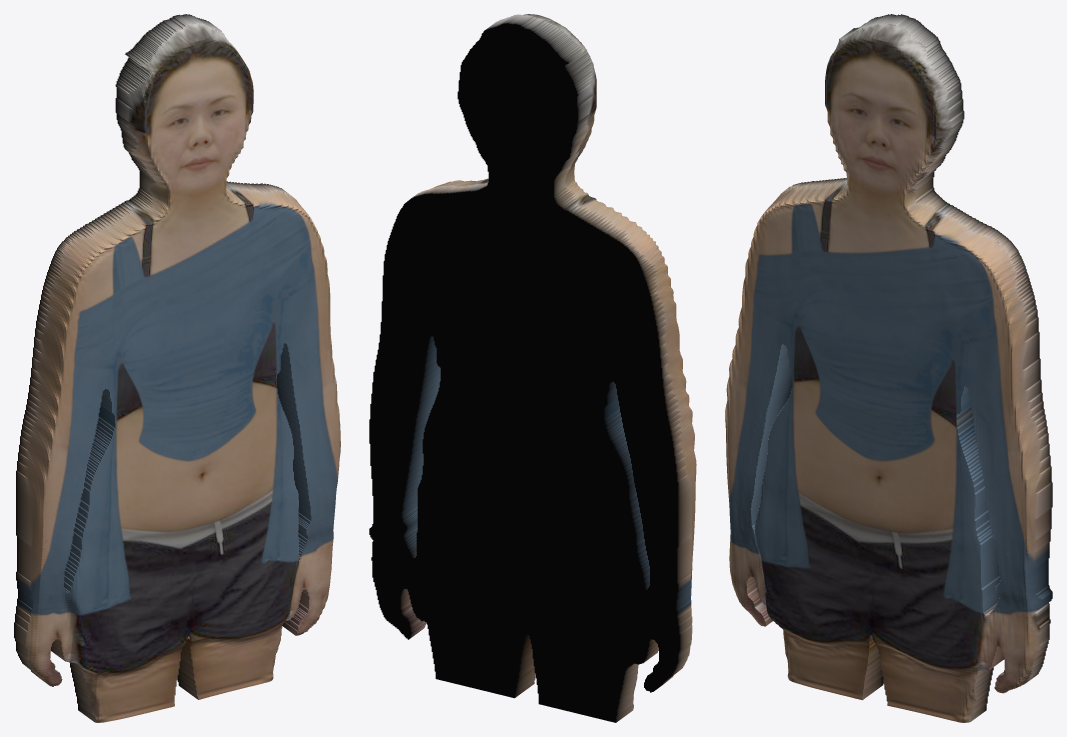
Rendered from avatar_20260409_212202.glb.
3 renders of one model, left to right at view 1: azimuth 30°, elevation 25°; view 2: azimuth 150°, elevation 25°; view 3: azimuth 330°, elevation 25°, orthographic.
Parts seen in each view (by area): view 1: world; view 2: world; view 3: world.
Part boxes in pixels (x1=…): world: x1=14, y1=14, x2=340, y2=722; world: x1=369, y1=14, x2=696, y2=722; world: x1=725, y1=14, x2=1052, y2=722.
Bounding box in the file's own units: 0.9508 × 1.97 × 0.1392.
